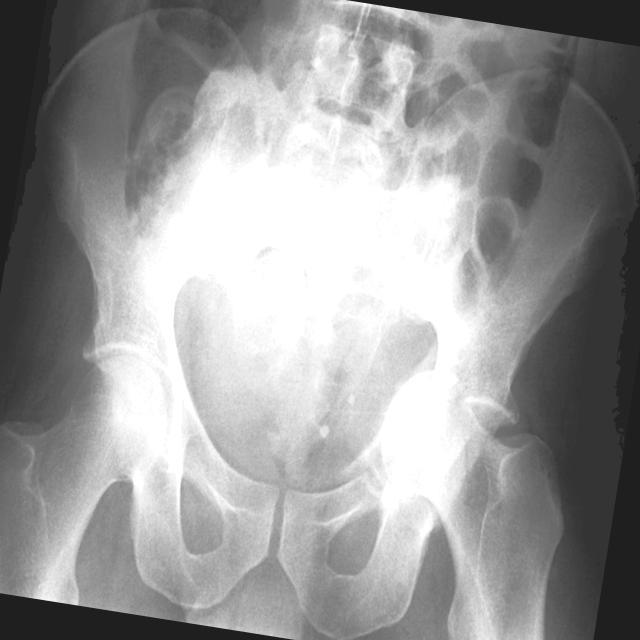Fracture Dislocation: (464, 389, 556, 474)
